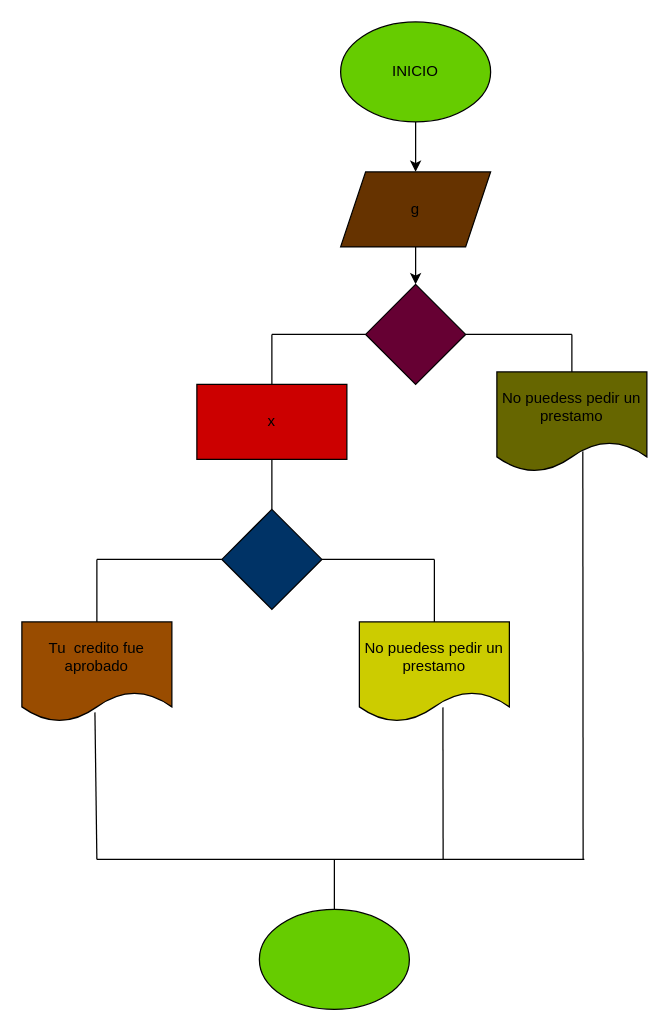
This 669x1031 diagram has some shape labels left out. Each missing label, with the box of its shape:
FIN: (258, 908, 409, 1009)
g < 945200: (364, 283, 466, 384)
x == 10: (221, 508, 322, 609)
